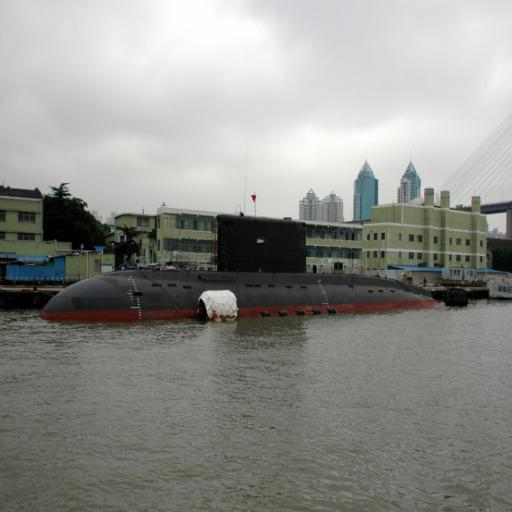submarine: (31, 217, 456, 323)
